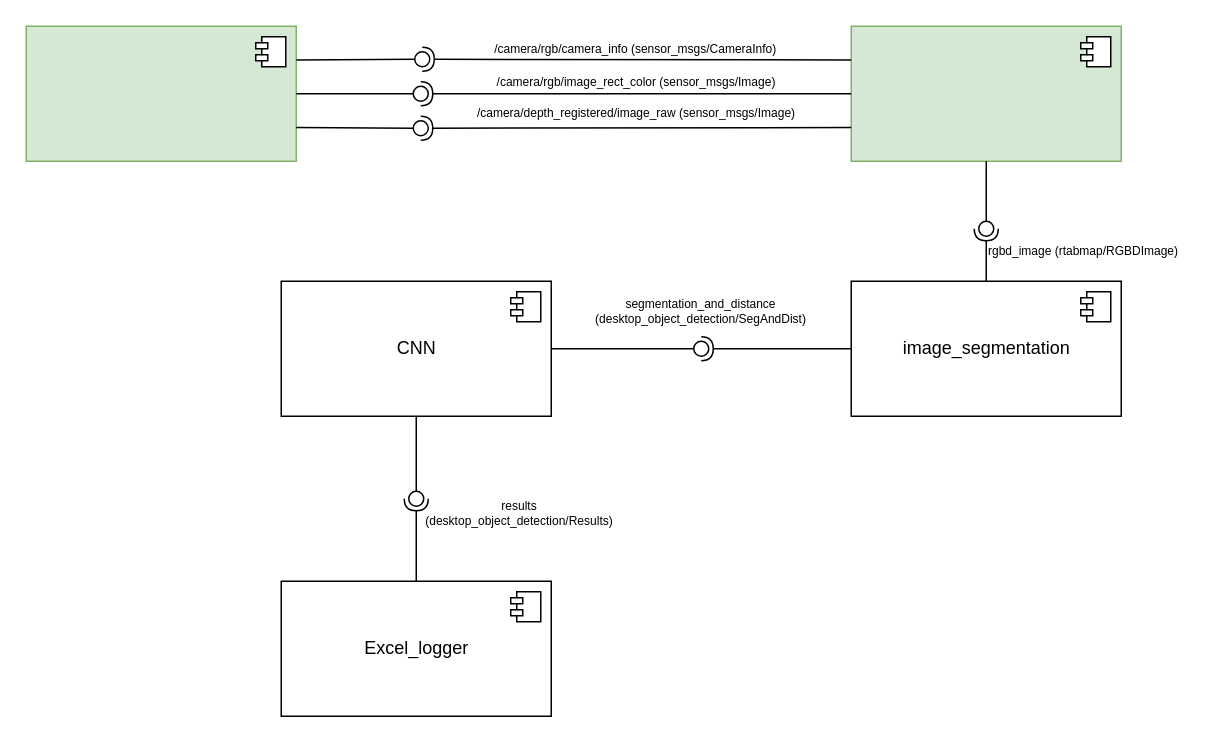
The diagram is 1215 pixels wide and 743 high, and some of its shapes have lost their labels. The shapes that lost their labels are listed below. From the top down, each one's centre as x and y in pixels, then its label:
[160,93]: freenect_camera
[985,93]: rtabmap_ros/rgbd_sync
